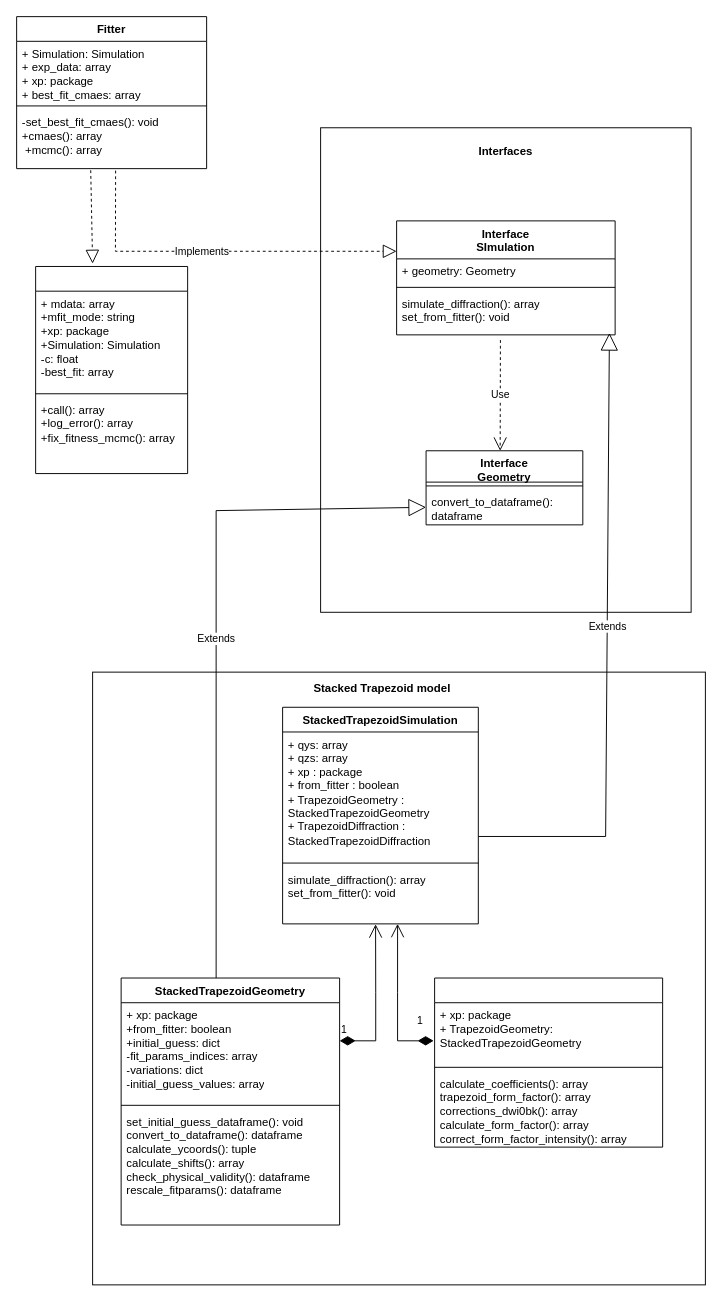
Image size: 722x1302. Some labels were removed from this diagram. Here are the shapes that lost their labels. From the top down, the box of each, then its label:
(35, 266, 188, 474): Residual
(434, 977, 663, 1147): StackedTrapezoidDiffraction
